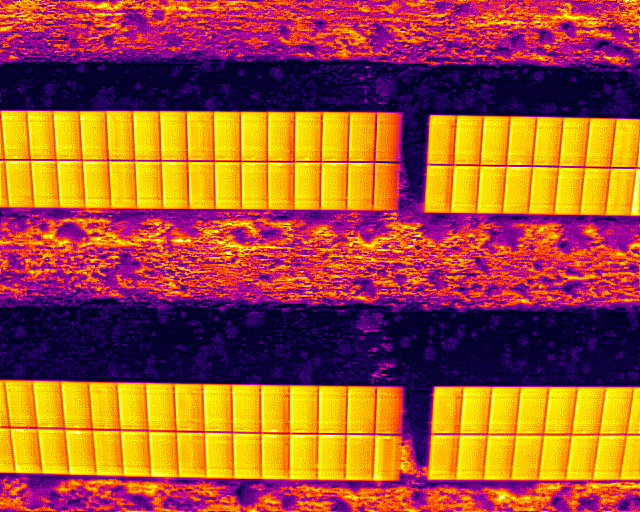photovoltaic_panels: (2, 379, 404, 481), (1, 110, 403, 211), (423, 114, 638, 216), (426, 386, 638, 480)
